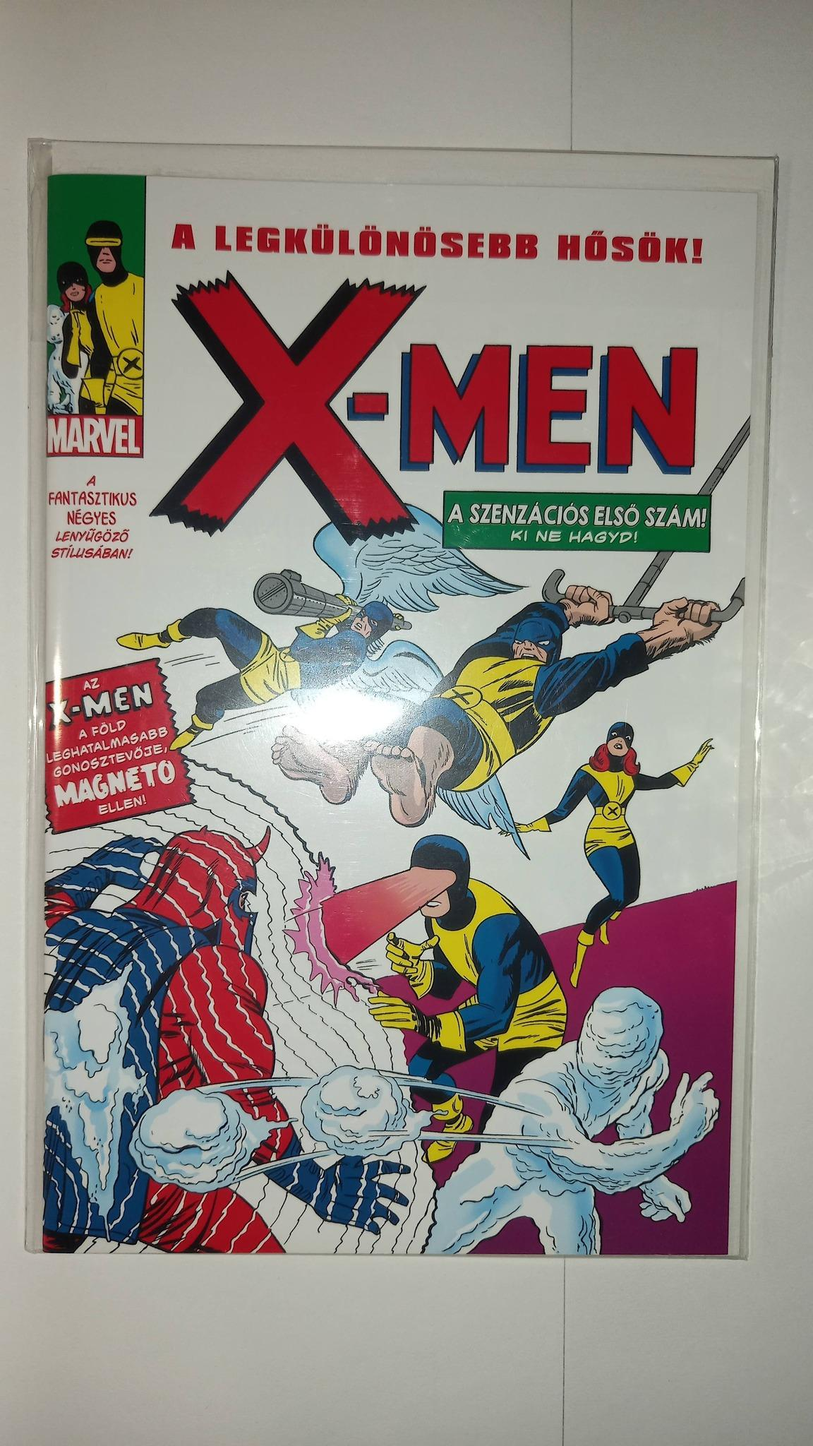comic: (41, 175, 757, 1255)
